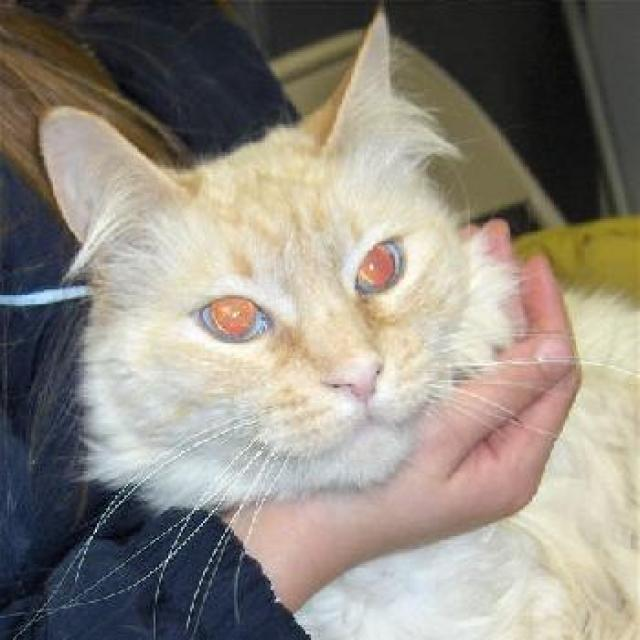Cats: (33, 0, 638, 638)
